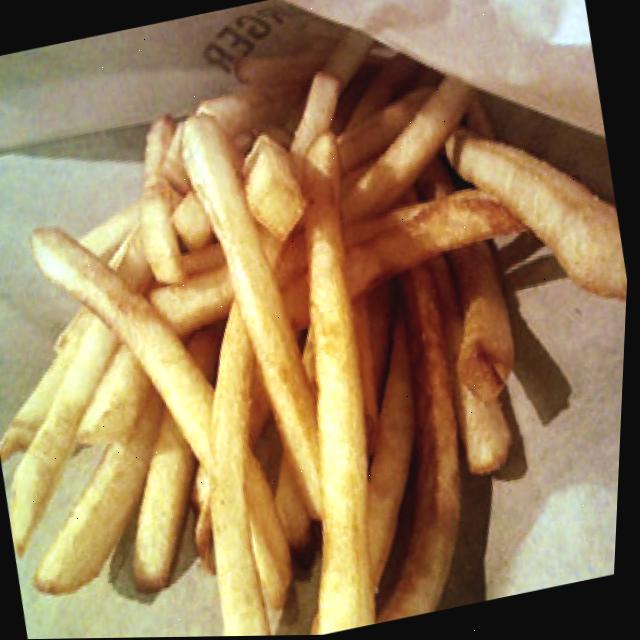炸货点心: (0, 59, 638, 640)
